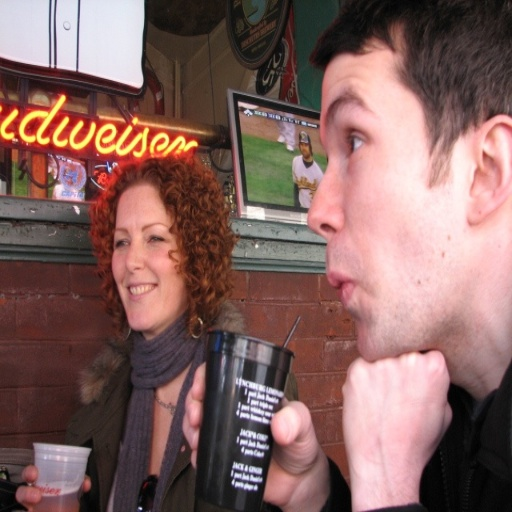hand: (181, 358, 321, 505), (340, 348, 454, 486), (14, 460, 92, 510)
